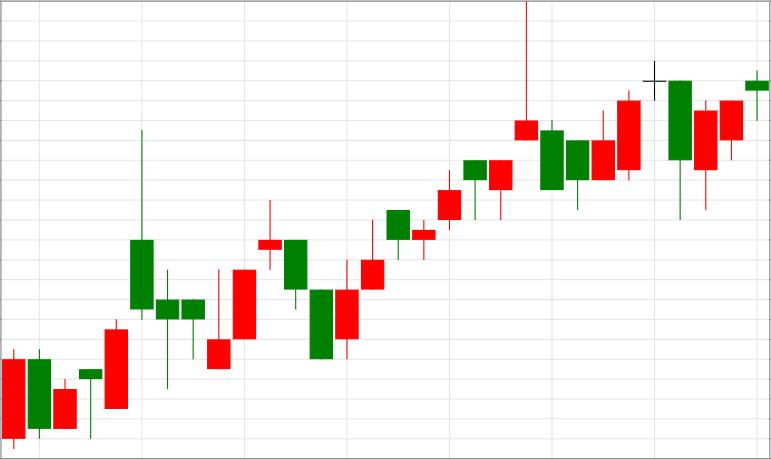evening_star_fall: (336, 3, 691, 359)
